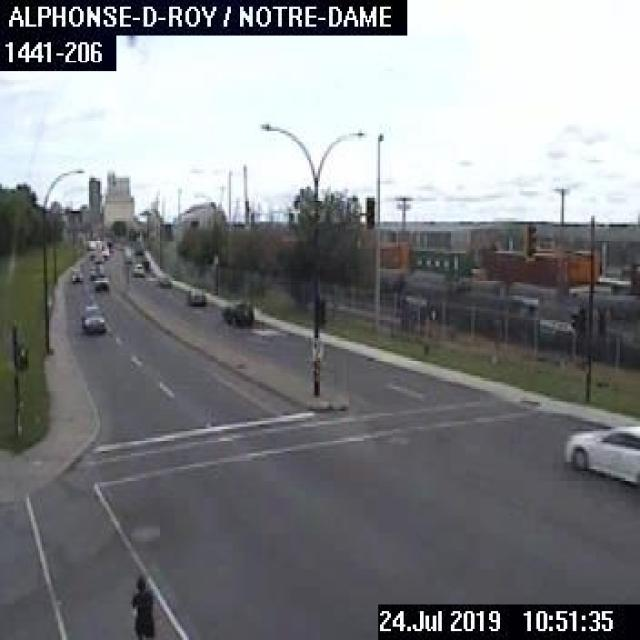pedestrian: (127, 571, 155, 638)
vehicle: (562, 422, 638, 484), (222, 300, 252, 323), (80, 305, 102, 331), (187, 285, 205, 303), (130, 260, 146, 278), (93, 271, 107, 289), (156, 273, 171, 287), (70, 266, 83, 282)
